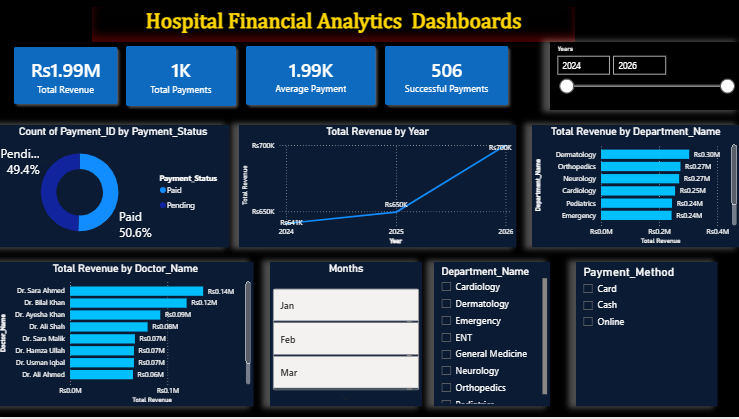

This screenshot's page, from the dashboard's own definition file:
{"tool":"powerbi","page":{"name":"Financial Analytics","canvas":[1280,720],"ordinal":3},"visuals":[{"type":"cardVisual","fields":{"Data":["Measures (2).Total Revenue"]},"box":[0,53.3,237.8,157.8],"z":0},{"type":"cardVisual","fields":{"Data":["Measures (2).Total Payments"]},"box":[193.3,51.1,248.9,162.2],"z":1000},{"type":"cardVisual","fields":{"Data":["Measures (2).Average Payment"]},"box":[400,51.1,282.2,160],"z":2000},{"type":"cardVisual","fields":{"Data":["Measures (2).Successful Payments"]},"box":[640,51.1,271.1,160],"z":3000},{"type":"textbox","box":[164.4,13.3,833.3,60],"z":4000},{"type":"lineChart","fields":{"Category":["payments.Payment_Date.Variation.Date Hierarchy.Year","payments.Payment_Date.Variation.Date Hierarchy.Quarter","payments.Payment_Date.Variation.Date Hierarchy.Month","payments.Payment_Date.Variation.Date Hierarchy.Day"],"Y":["Measures (2).Total Revenue"]},"box":[417.8,217.8,477.8,211.1],"z":5000},{"type":"clusteredBarChart","fields":{"Category":["department.Department_Name"],"Y":["Measures (2).Total Revenue"]},"box":[922.2,217.8,357.8,211.1],"z":6000},{"type":"donutChart","fields":{"Category":["payments.Payment_Status"],"Y":["CountNonNull(payments.Payment_ID)"]},"box":[0,217.8,400,211.1],"z":7000},{"type":"clusteredBarChart","fields":{"Category":["doctors.Doctor_Name"],"Y":["Measures (2).Total Revenue"]},"box":[0,453.3,442.2,248.9],"z":8000},{"type":"slicer","fields":{"Values":["department.Department_Name"]},"box":[753.3,453.3,200,248.9],"z":9000},{"type":"slicer","fields":{"Values":["payments.Payment_Method"]},"box":[997.8,453.3,244.4,248.9],"z":10000},{"type":"cardVisual","title":"Months","fields":{"Rows":["payments.Month"]},"box":[471.1,453.3,262.2,248.9],"z":11000},{"type":"slicer","fields":{"Values":["payments.Years"]},"box":[953.3,73.3,326.7,117.8],"z":12000}]}

Visuals, with their boxes in screenshot pixels (x1, y1, x2, y2), scaled from the page's 1280x720 canvas onto the 739x419 screenshot:
cardVisual - Measures (2).Total Revenue: rect(0, 31, 137, 123)
cardVisual - Measures (2).Total Payments: rect(112, 30, 255, 124)
cardVisual - Measures (2).Average Payment: rect(231, 30, 394, 123)
cardVisual - Measures (2).Successful Payments: rect(370, 30, 526, 123)
textbox: rect(95, 8, 576, 43)
lineChart - payments.Payment_Date.Variation.Date Hierarchy.Year x payments.Payment_Date.Variation.Date Hierarchy.Quarter: rect(241, 127, 517, 250)
clusteredBarChart - department.Department_Name x Measures (2).Total Revenue: rect(532, 127, 738, 250)
donutChart - payments.Payment_Status x CountNonNull(payments.Payment_ID): rect(0, 127, 231, 250)
clusteredBarChart - doctors.Doctor_Name x Measures (2).Total Revenue: rect(0, 264, 255, 409)
slicer - department.Department_Name: rect(435, 264, 550, 409)
slicer - payments.Payment_Method: rect(576, 264, 717, 409)
"Months" cardVisual: rect(272, 264, 423, 409)
slicer - payments.Years: rect(550, 43, 738, 111)
